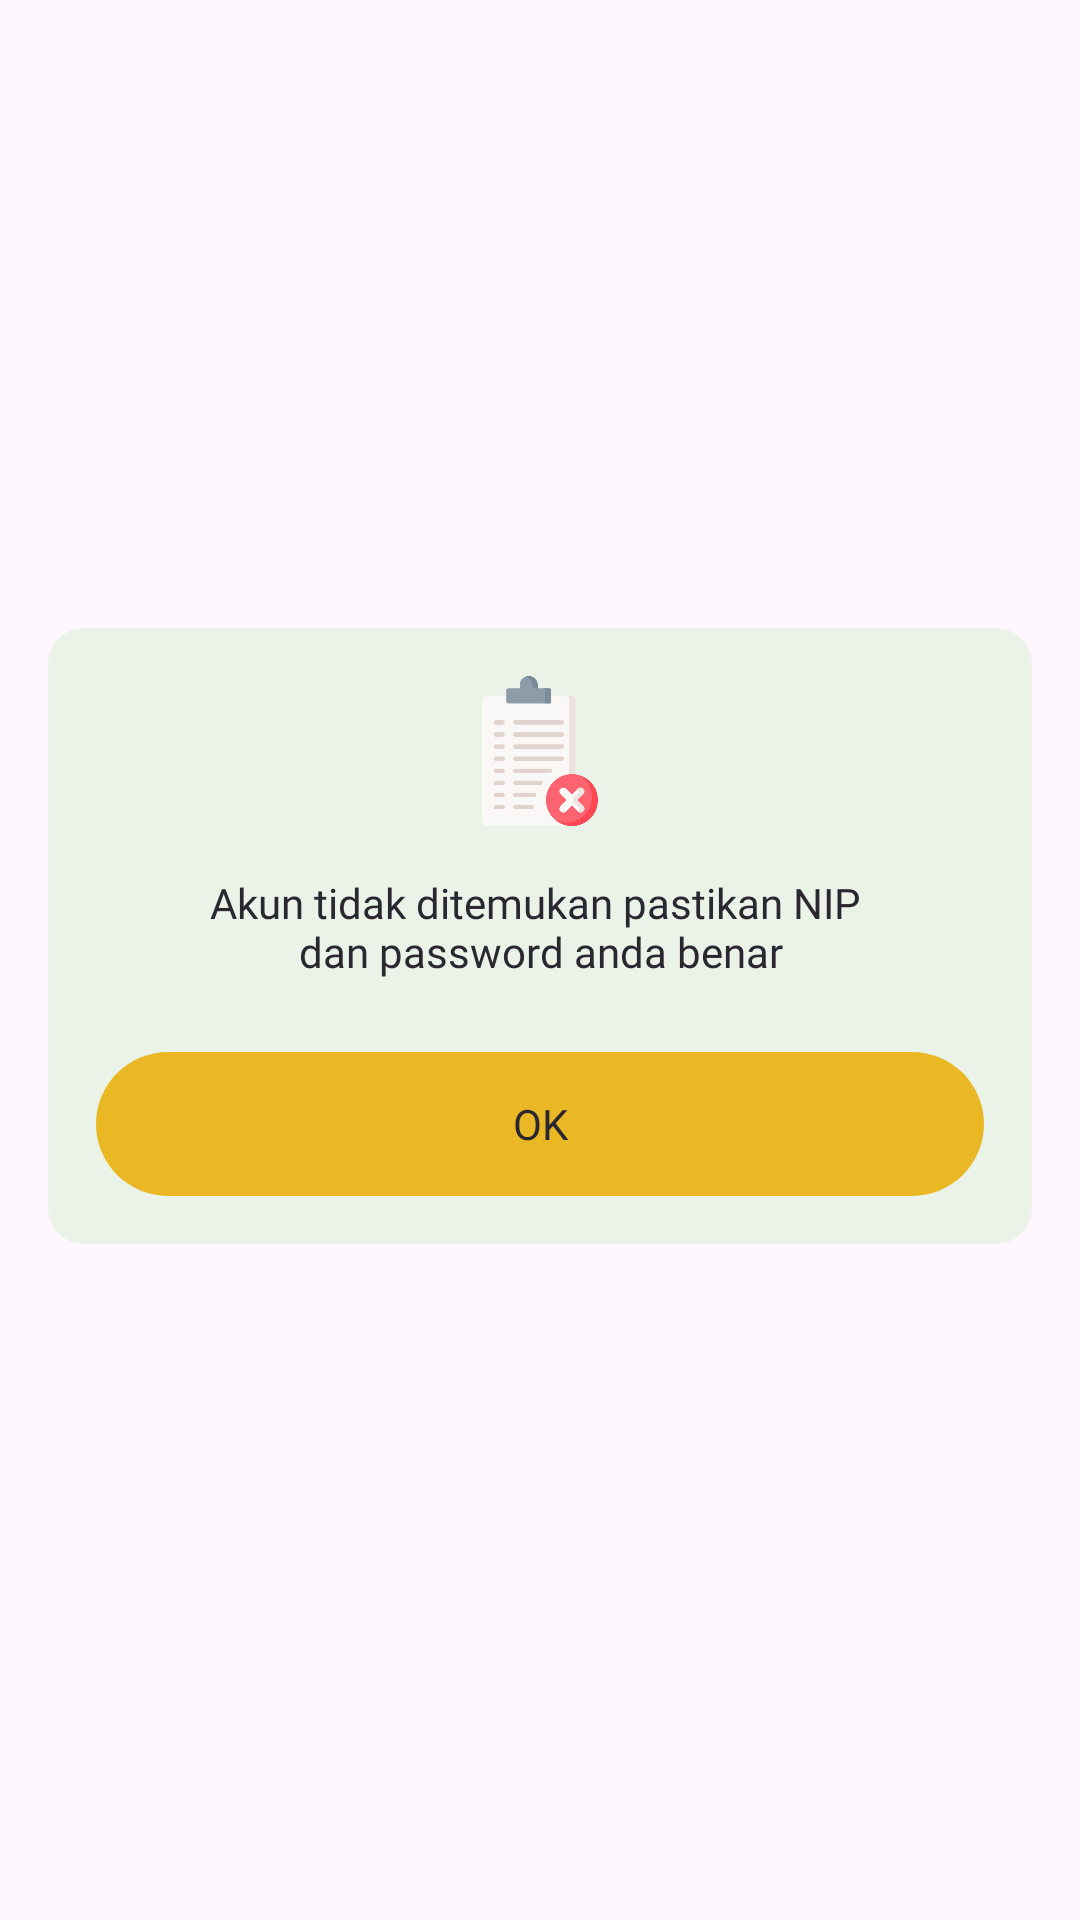

Icons on this 1080px x 1920px Android screen, each with its box as (x1, y1, x2, y2):
reject: (482, 676, 598, 826)
